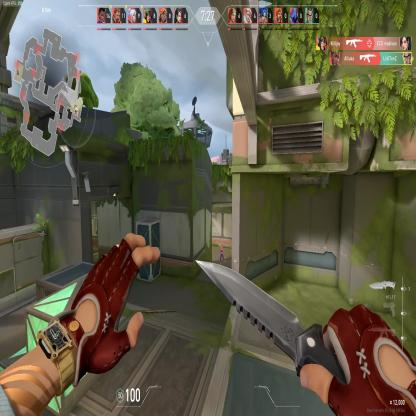enemy: (218, 242, 226, 266)
